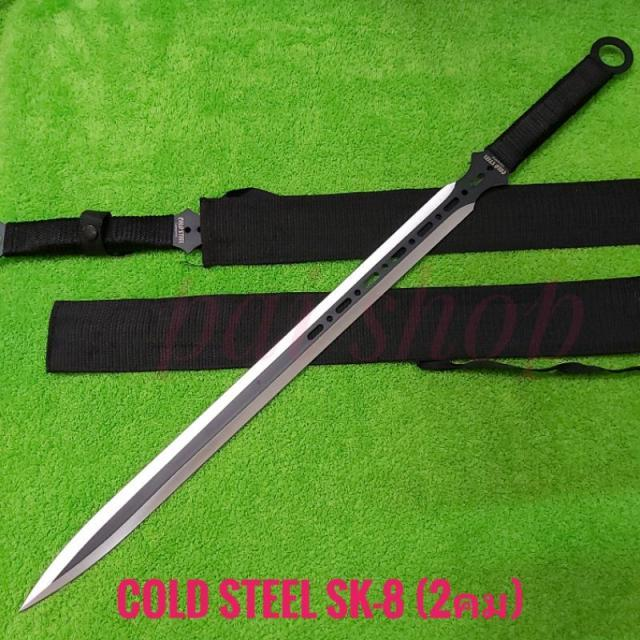long sword: (16, 16, 628, 611)
